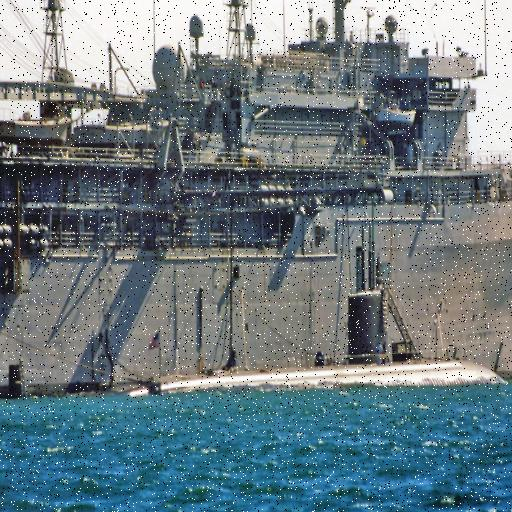submarine: (87, 224, 512, 395)
